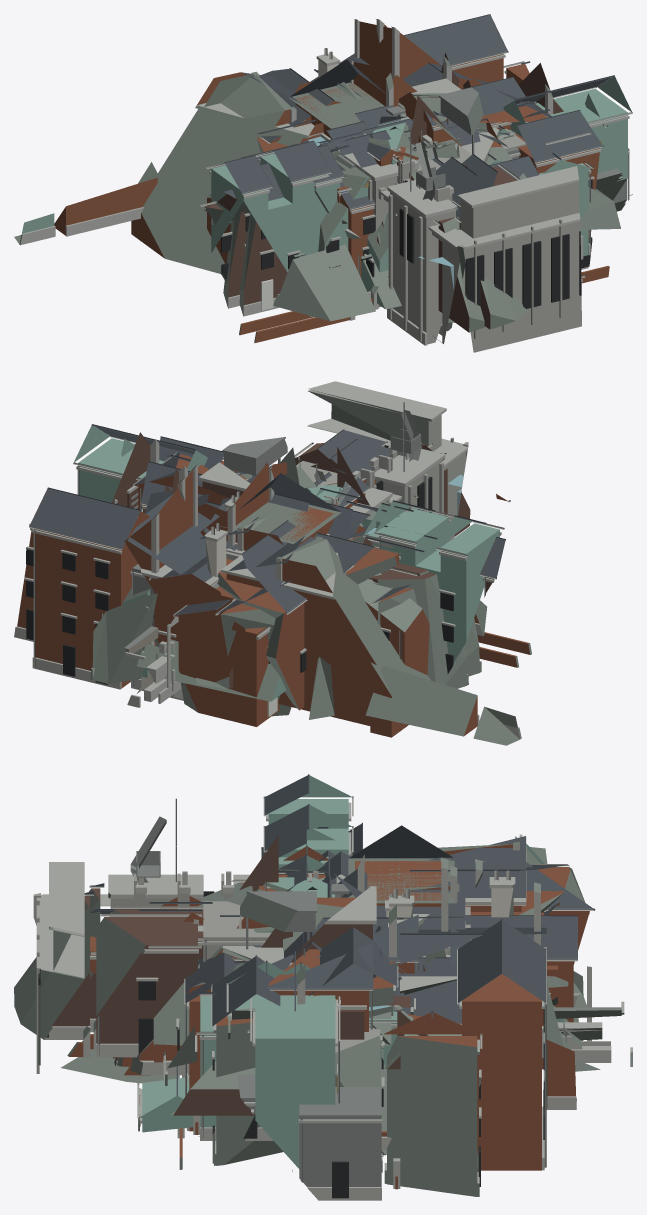
The model's file is source-earthfall-fracture.glb.
3 renders of one model, top to bottom at view 1: azimuth 30°, elevation 25°; view 2: azimuth 150°, elevation 25°; view 3: azimuth 270°, elevation 25°, orthographic. The views are drawn at different scales.
Parts seen in each view (by area): view 1: earthfall_ellery_chunk_23, earthfall_ellery_chunk_10, earthfall_ellery_chunk_16, earthfall_ellery_chunk_09, earthfall_ellery_chunk_20, earthfall_ellery_chunk_14, earthfall_ellery_fragment_12_2, earthfall_ellery_chunk_18, earthfall_ellery_chunk_00, earthfall_ellery_fragment_14_1, earthfall_ellery_fragment_20_2, earthfall_ellery_fragment_16_1 (+17 smaller); view 2: earthfall_ellery_chunk_09, earthfall_ellery_chunk_10, earthfall_ellery_chunk_16, earthfall_ellery_chunk_08, earthfall_ellery_chunk_20, earthfall_ellery_chunk_23, earthfall_ellery_chunk_14, earthfall_ellery_chunk_12, earthfall_ellery_chunk_05, earthfall_ellery_fragment_10_2, earthfall_ellery_fragment_20_2, earthfall_ellery_chunk_00 (+14 smaller); view 3: earthfall_ellery_chunk_09, earthfall_ellery_chunk_16, earthfall_ellery_chunk_14, earthfall_ellery_chunk_18, earthfall_ellery_chunk_00, earthfall_ellery_chunk_10, earthfall_ellery_chunk_20, earthfall_ellery_chunk_23, earthfall_ellery_chunk_08, earthfall_ellery_fragment_16_1, earthfall_ellery_chunk_05, earthfall_ellery_chunk_24 (+21 smaller).
Part boxes in pixels (x1,y1,x2,y2): earthfall_ellery_chunk_23: (256,119,581,352); earthfall_ellery_chunk_10: (131,71,593,309); earthfall_ellery_chunk_16: (199,75,632,281); earthfall_ellery_chunk_09: (336,14,530,345); earthfall_ellery_chunk_20: (239,19,602,342); earthfall_ellery_chunk_14: (14,143,530,329); earthfall_ellery_fragment_12_2: (273,244,401,321); earthfall_ellery_chunk_18: (316,48,609,283); earthfall_ellery_chunk_00: (288,59,585,282); earthfall_ellery_fragment_14_1: (397,156,485,332); earthfall_ellery_fragment_20_2: (223,19,534,335); earthfall_ellery_fragment_16_1: (313,93,607,212); earthfall_ellery_chunk_09: (14,402,510,700); earthfall_ellery_chunk_10: (221,536,430,737); earthfall_ellery_chunk_16: (73,424,505,673); earthfall_ellery_chunk_08: (112,432,337,726); earthfall_ellery_chunk_20: (124,442,531,716); earthfall_ellery_chunk_23: (206,381,468,584); earthfall_ellery_chunk_14: (137,429,521,745); earthfall_ellery_chunk_12: (217,520,354,710); earthfall_ellery_chunk_05: (133,452,429,719); earthfall_ellery_fragment_10_2: (90,501,390,683); earthfall_ellery_fragment_20_2: (141,455,518,688); earthfall_ellery_chunk_00: (220,473,341,545); earthfall_ellery_chunk_09: (108,798,546,1196); earthfall_ellery_chunk_16: (237,774,400,1200); earthfall_ellery_chunk_14: (14,829,570,1057); earthfall_ellery_chunk_18: (177,870,559,1169); earthfall_ellery_chunk_00: (137,825,454,1132); earthfall_ellery_chunk_10: (193,836,526,1140); earthfall_ellery_chunk_20: (226,827,595,1039); earthfall_ellery_chunk_23: (33,862,406,1155); earthfall_ellery_chunk_08: (113,896,580,1075); earthfall_ellery_fragment_16_1: (247,827,384,1172); earthfall_ellery_chunk_05: (124,943,373,1075); earthfall_ellery_chunk_24: (220,891,316,965).
Bounding box in the file's own units: 54.24 × 21.64 × 42.5.
